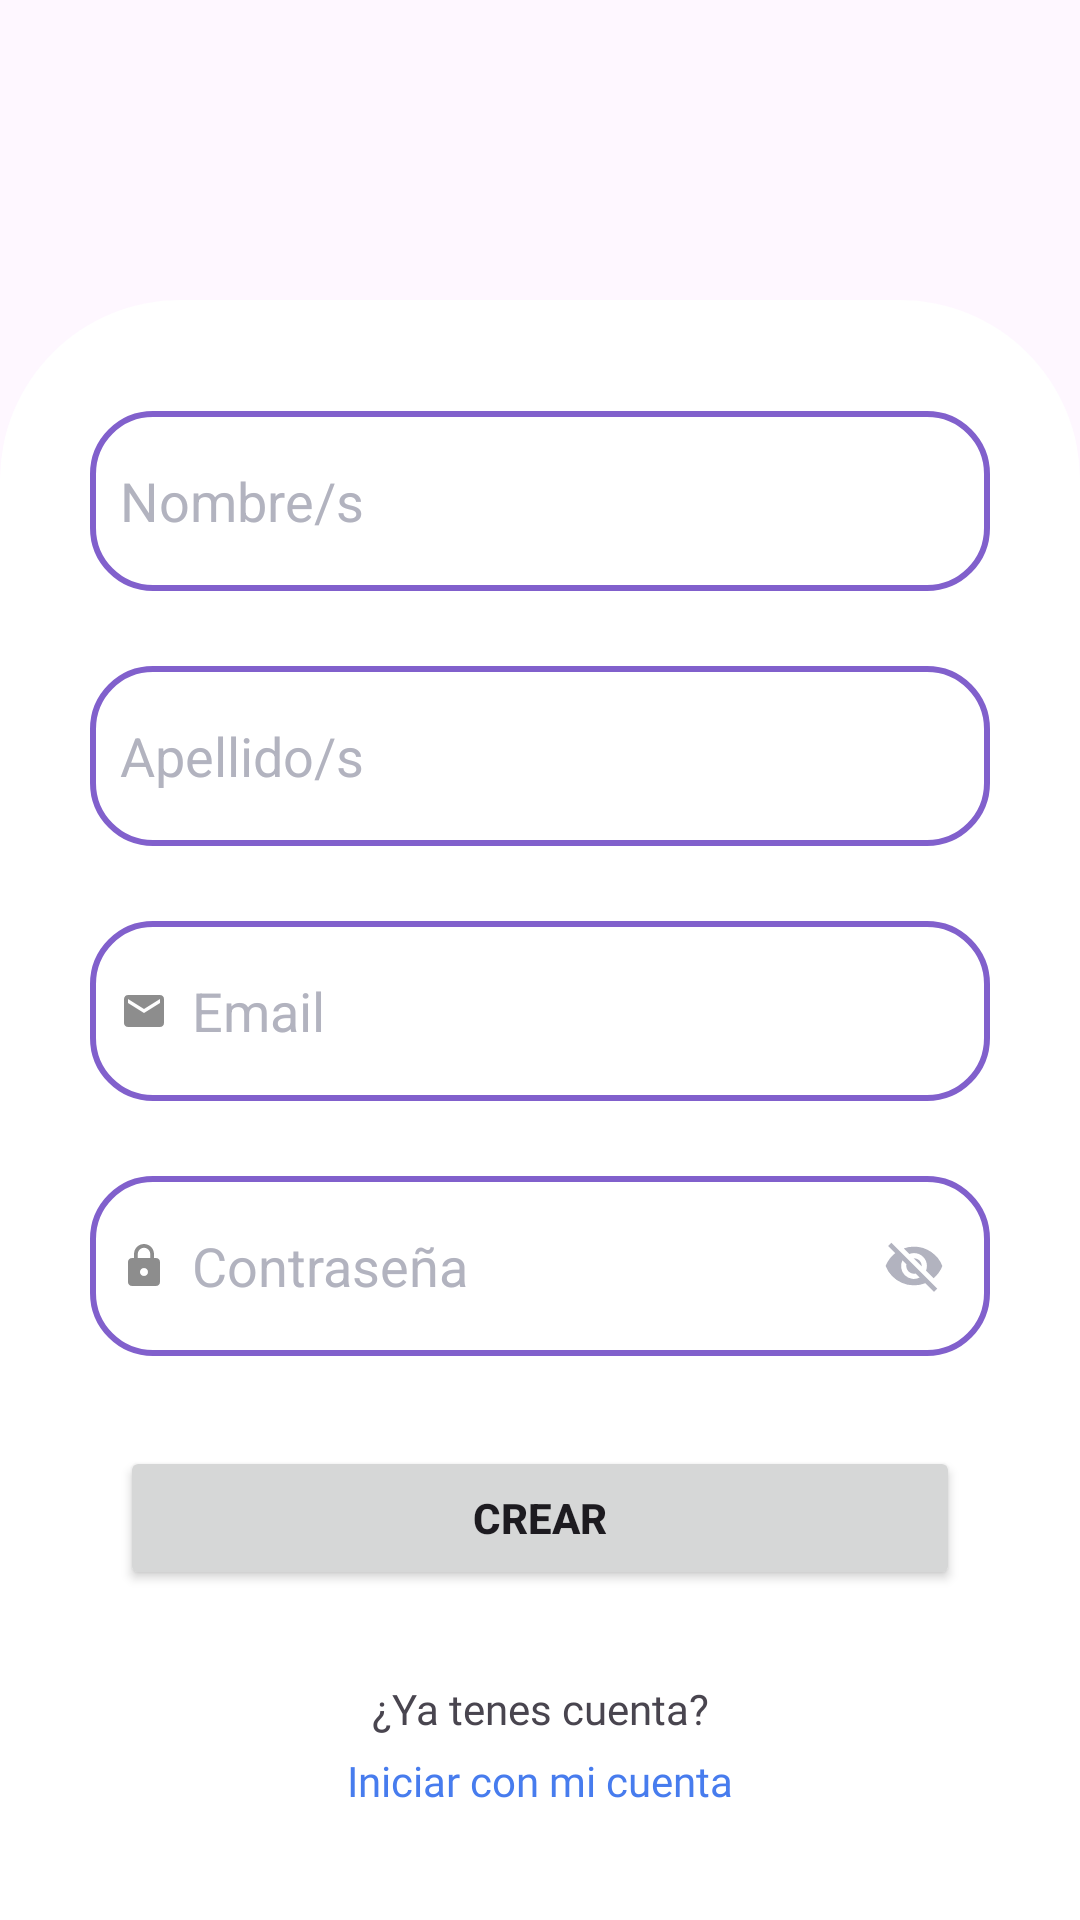

Icon bounding boxes for this 1080*1920 phone screenshot, format (x1, y1, x2, y2):
visibility off: (886, 1243, 942, 1292)
